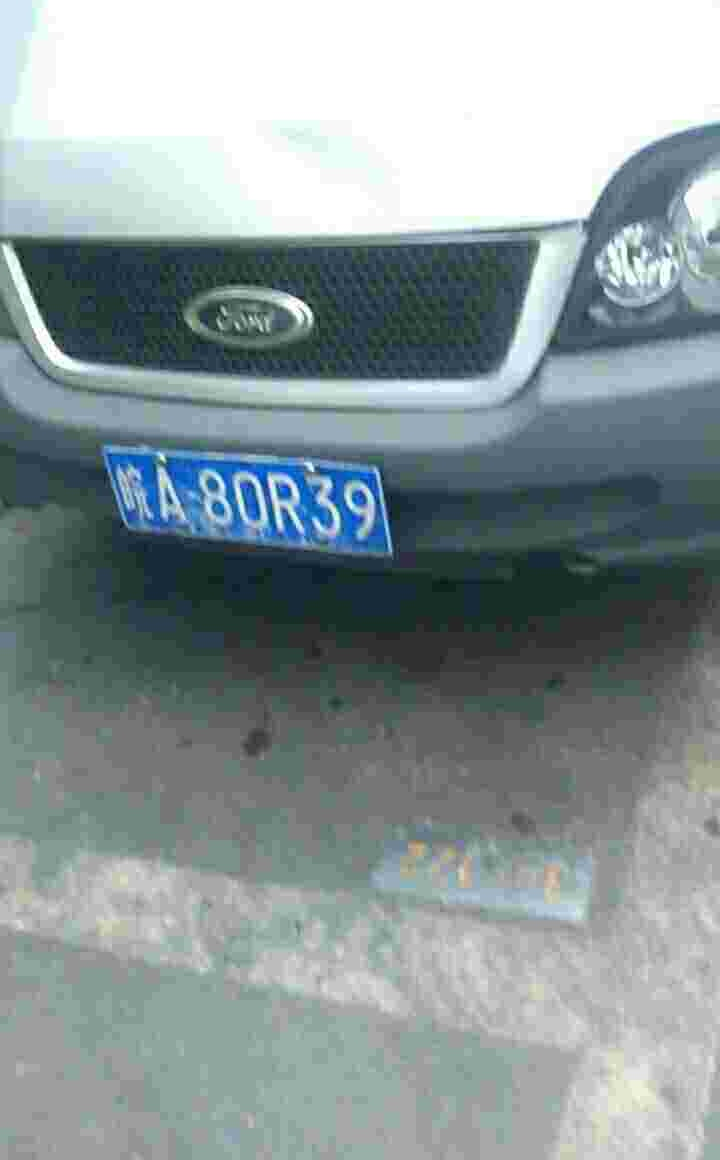license_plate: (104, 444, 386, 554)
